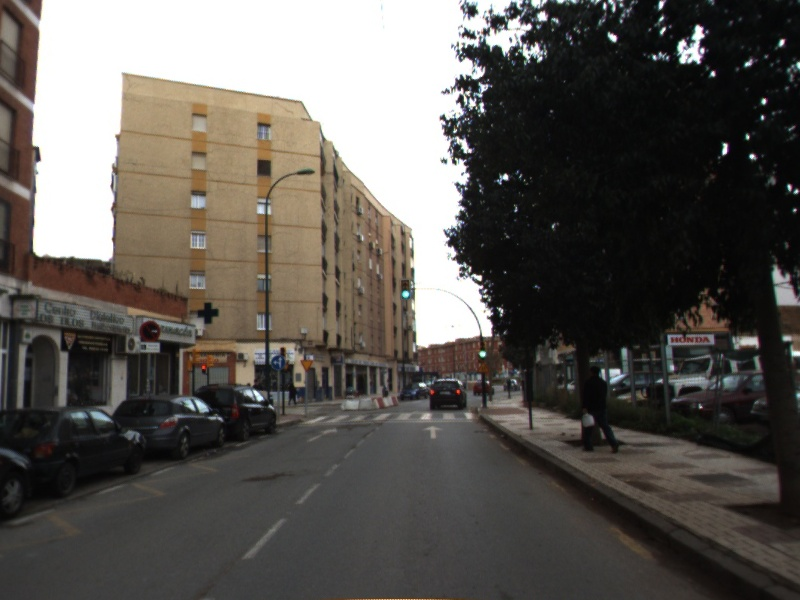STRAIGHT: (304, 425, 340, 444), (420, 423, 445, 441)
